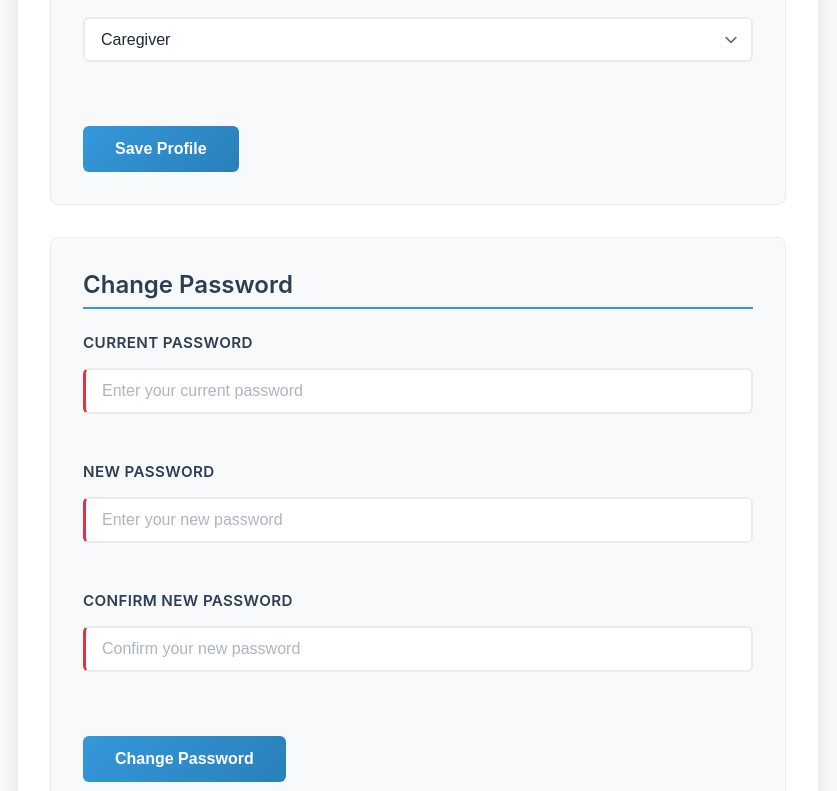
Test case: Settings page › password change validations and error states
This screenshot has width=837, height=791.
(page scrolled)
Type "old" into the password field labelled "Current Password".
click(418, 391); type("old")  # box [83, 368, 753, 414]
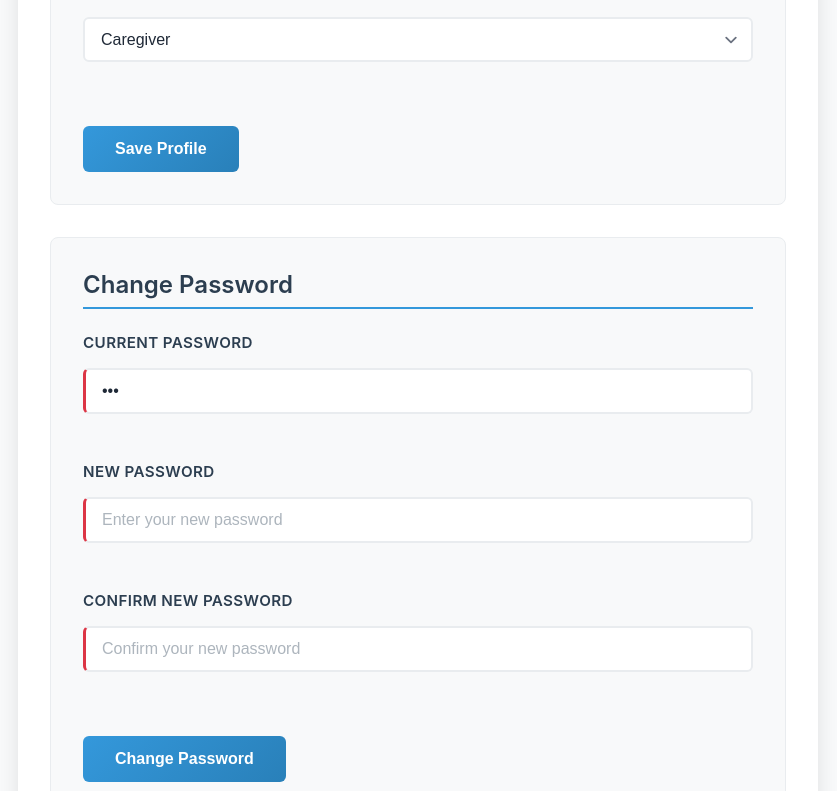
Type "short" into the password field labelled "New Password".
click(418, 520); type("short")  # box [83, 497, 753, 543]
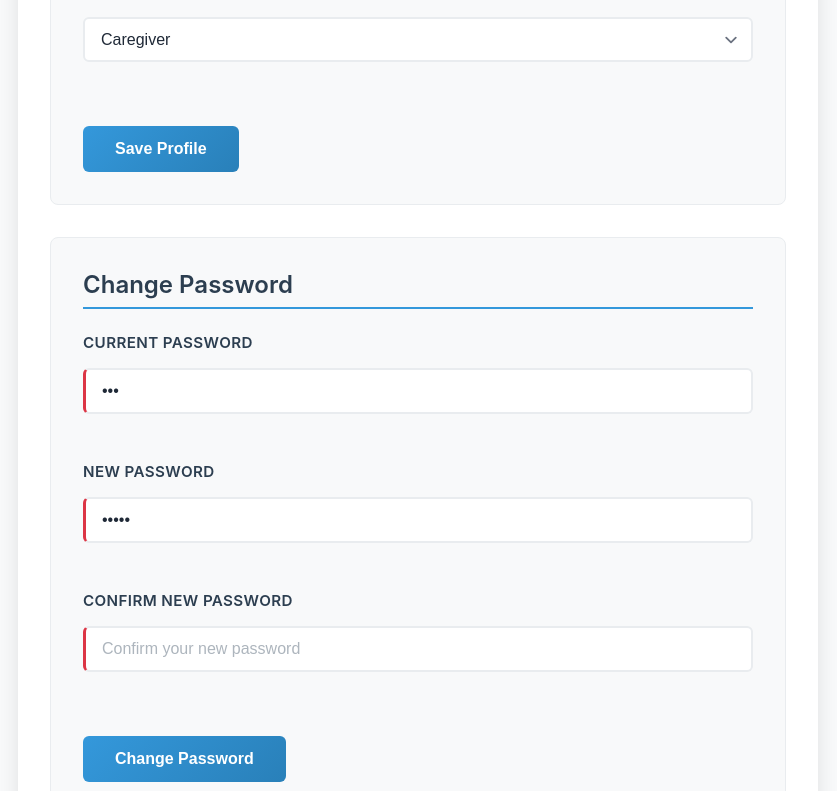
Type "mismatch" into the password field labelled "Confirm New Password".
click(418, 649); type("mismatch")  # box [83, 626, 753, 672]
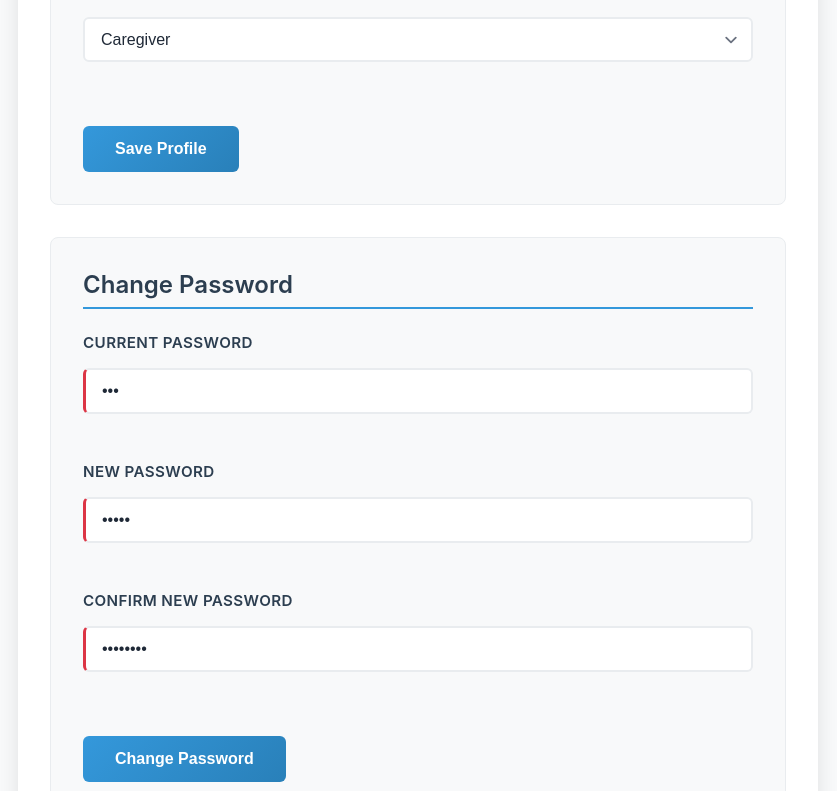
Click the button "Change Password".
click(184, 759)  # box [83, 736, 286, 782]
(page scrolled)
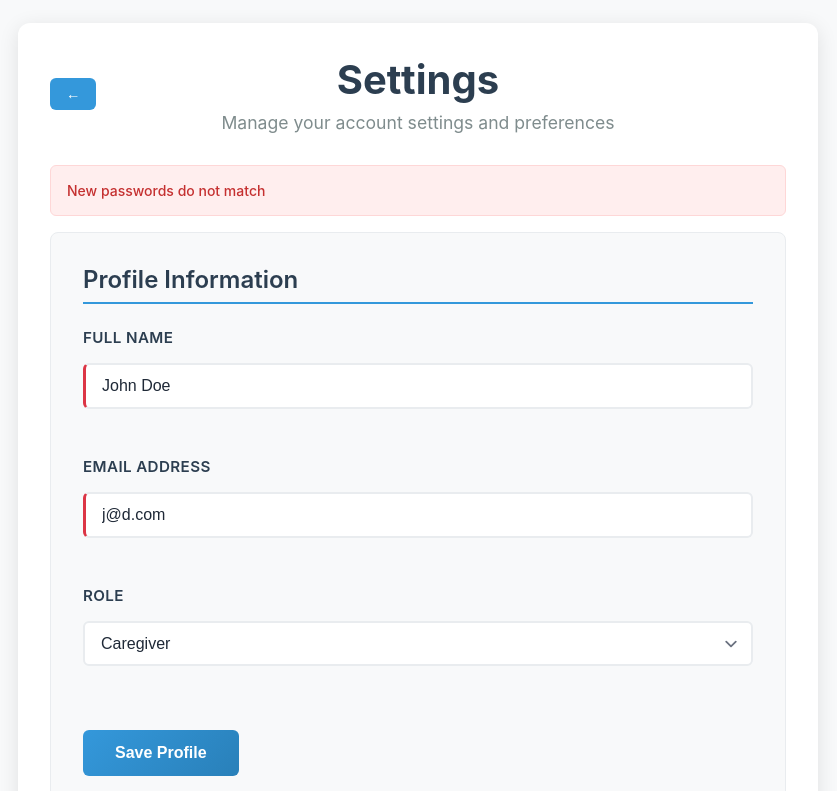
Expected: the text "New passwords do not match" is shown, [50, 165, 786, 216]
